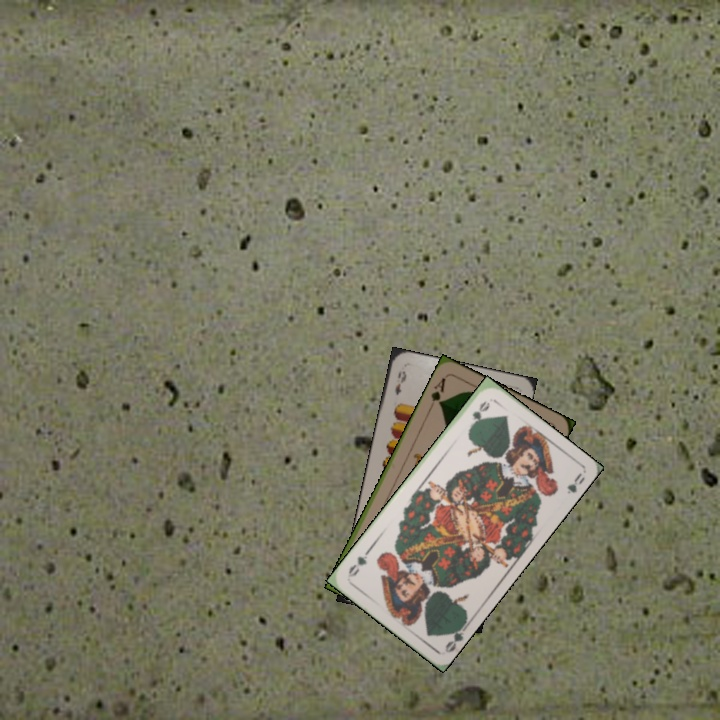E9: (391, 367, 409, 398)
GA: (426, 374, 448, 411)
GO: (441, 618, 471, 655), (465, 397, 493, 432)
